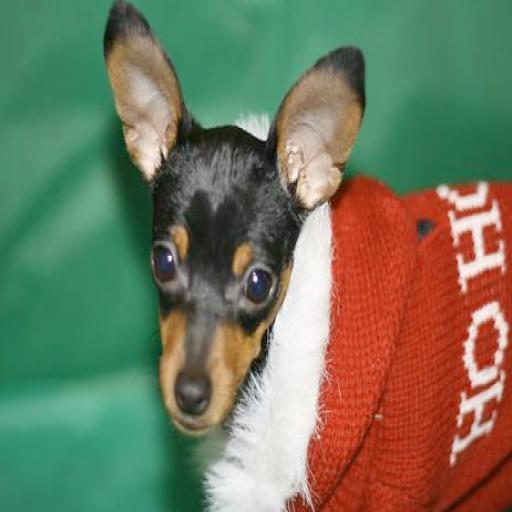dog_face: (96, 0, 337, 439)
